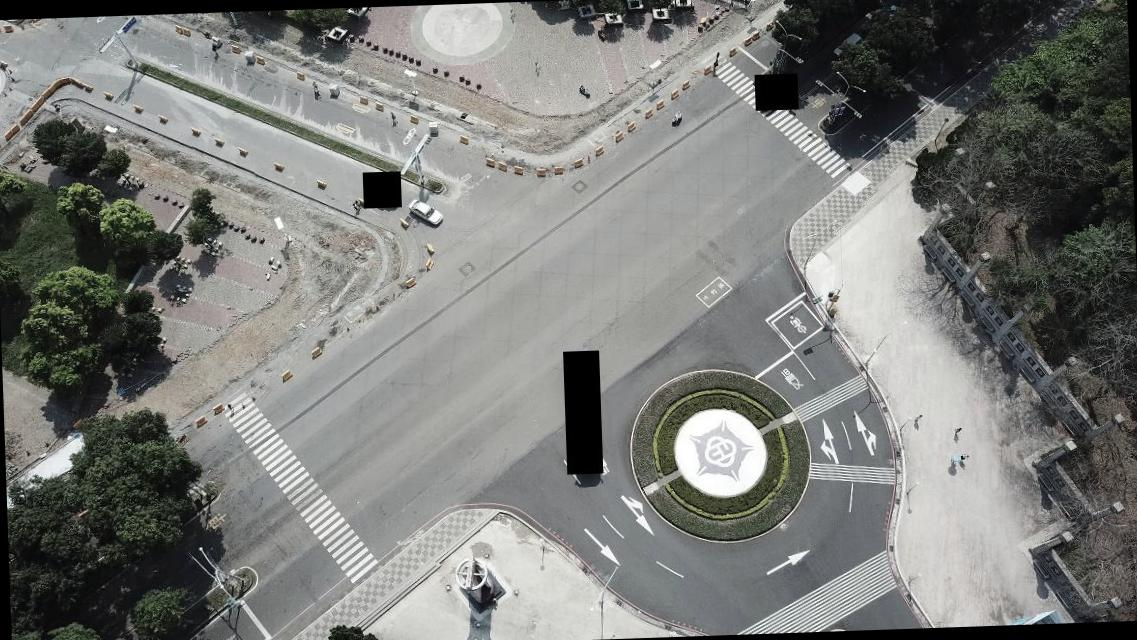vehicle: (406, 198, 440, 226), (832, 31, 862, 60)
